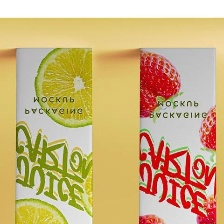carton: (10, 44, 98, 223), (136, 42, 219, 223)
